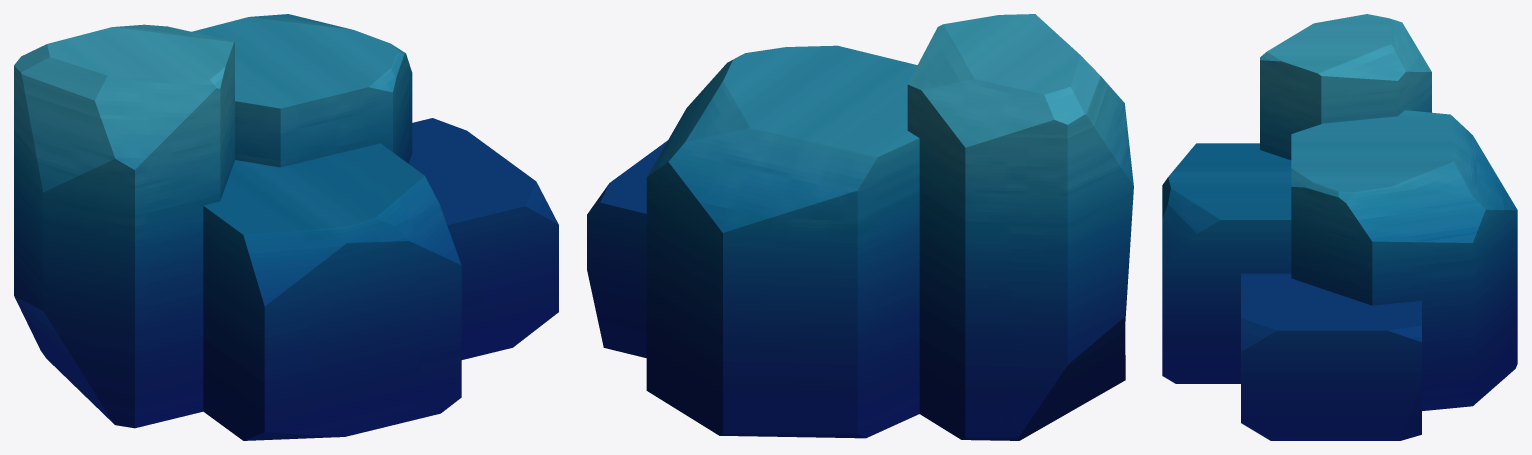
File: rocaesmeralda_08.fbx
3 renders of one model, left to right at view 1: azimuth 30°, elevation 25°; view 2: azimuth 150°, elevation 25°; view 3: azimuth 270°, elevation 25°, orthographic. The views are drawn at different scales.
Parts seen in each view (by area): view 1: cueva06; view 2: cueva06; view 3: cueva06.
Part boxes in pixels (x1=…): cueva06: x1=14, y1=14, x2=558, y2=440; cueva06: x1=587, y1=14, x2=1133, y2=440; cueva06: x1=1162, y1=14, x2=1517, y2=440.
Size of the model in its own units: 471 by 317 by 393.
1 material, 1 textured.
